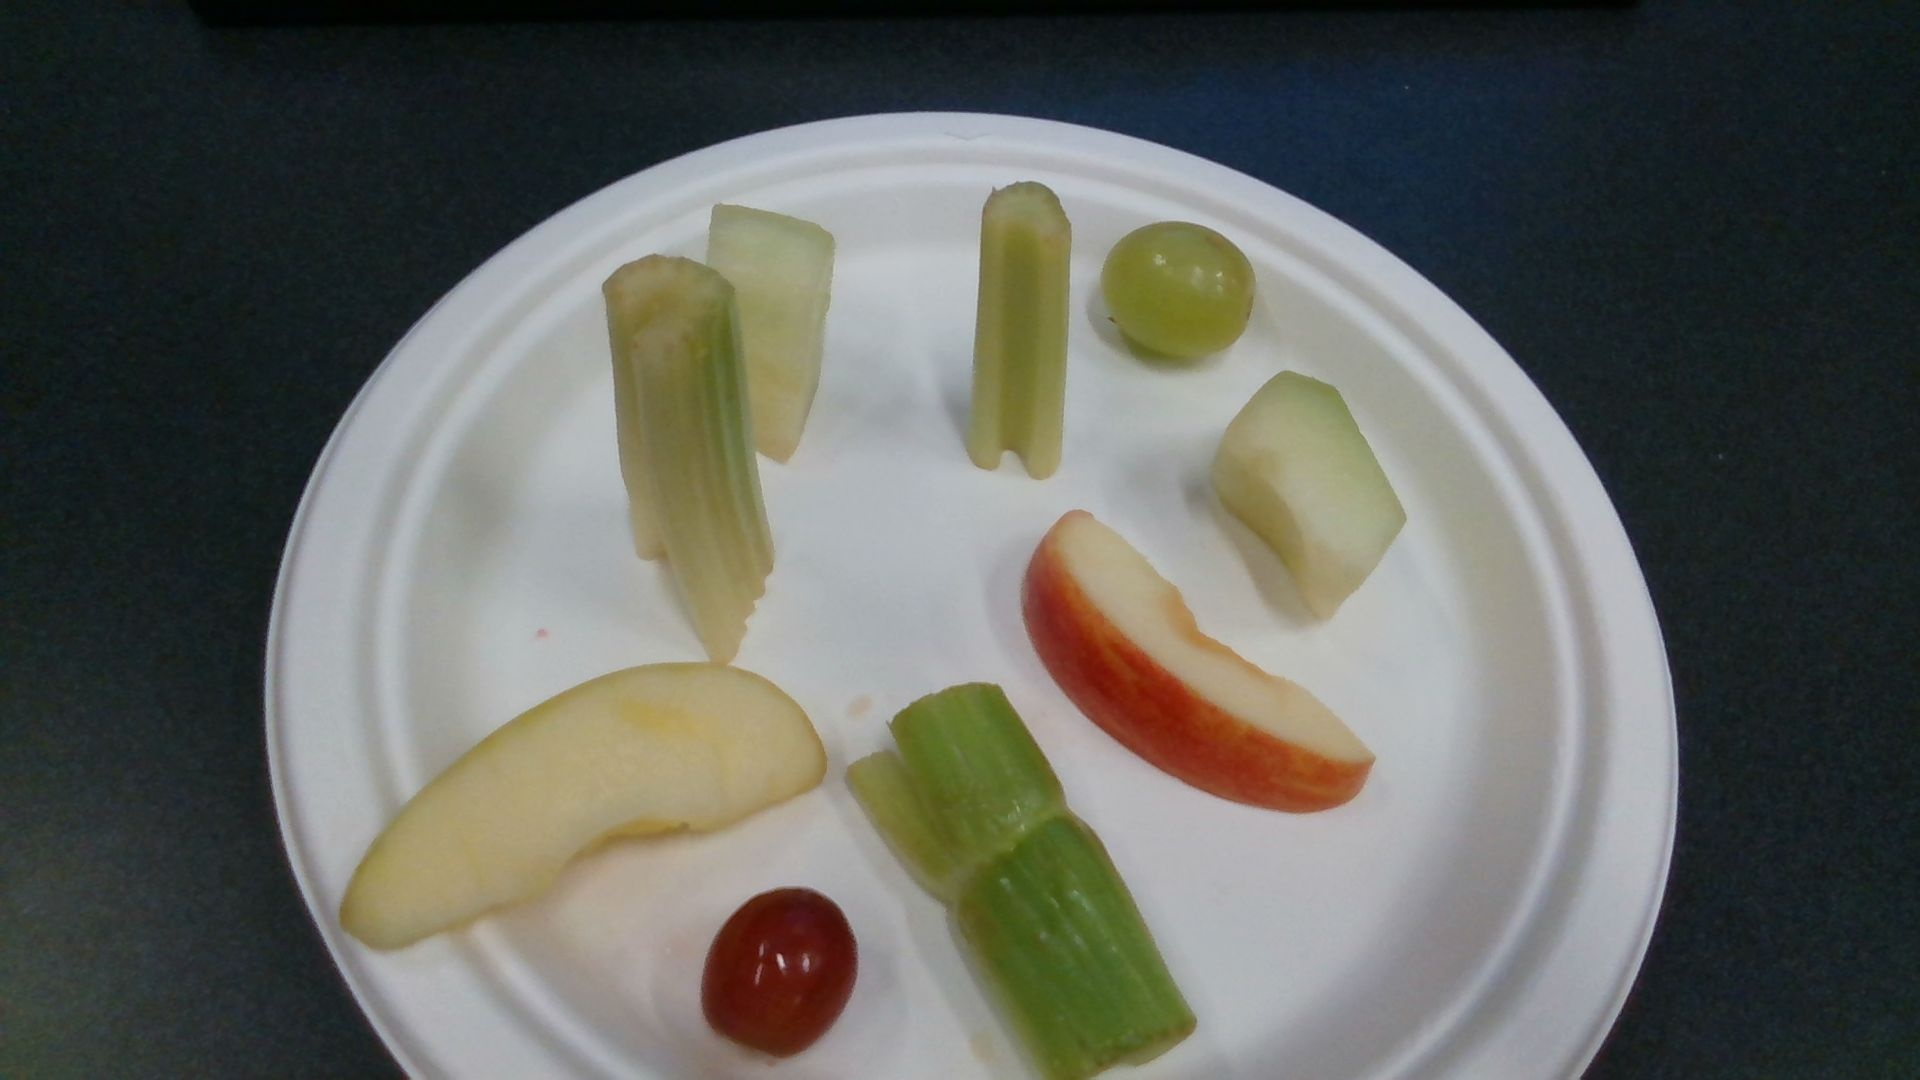apple: (345, 665, 825, 953), (1025, 508, 1370, 808)
cantalope: (1209, 373, 1404, 618), (707, 200, 833, 463)
celery: (845, 683, 1199, 1073), (605, 255, 774, 663), (969, 181, 1072, 475)
grape_green: (1102, 222, 1255, 357)
grape_purple: (702, 887, 858, 1055)
